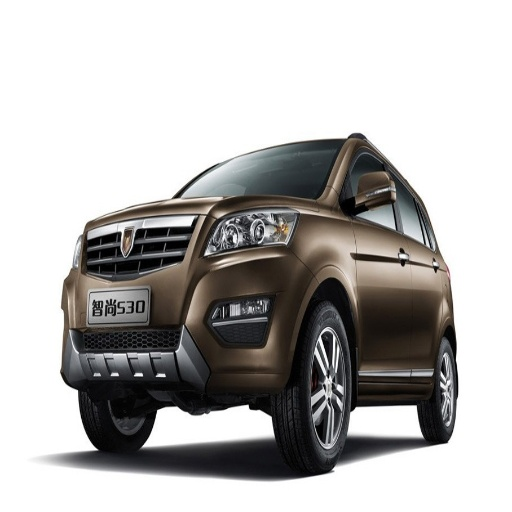front_bumper: (63, 200, 310, 388)
front_glass: (256, 141, 342, 196)
front_left_door: (338, 140, 408, 362)
